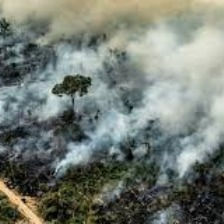incendio: (15, 52, 203, 195)
